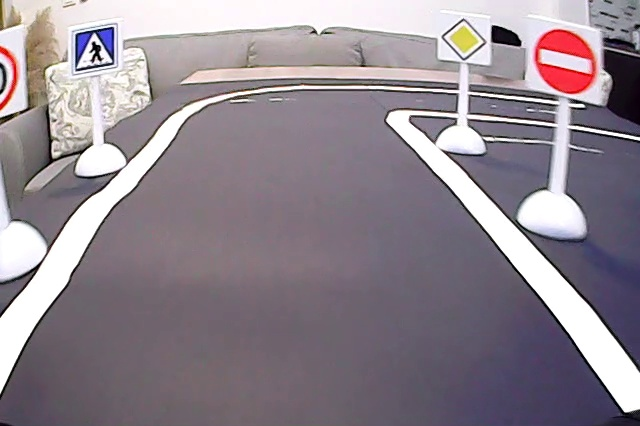do not enter: (530, 20, 598, 98)
pedestrian crossing: (69, 26, 122, 72)
